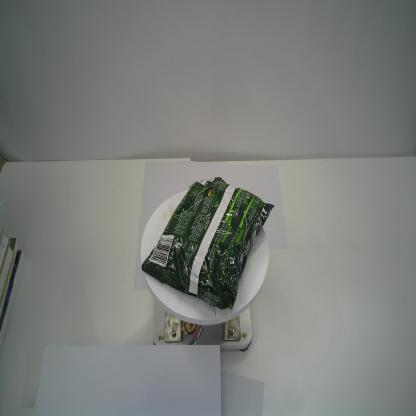Instant Noodles: (138, 173, 277, 312)
